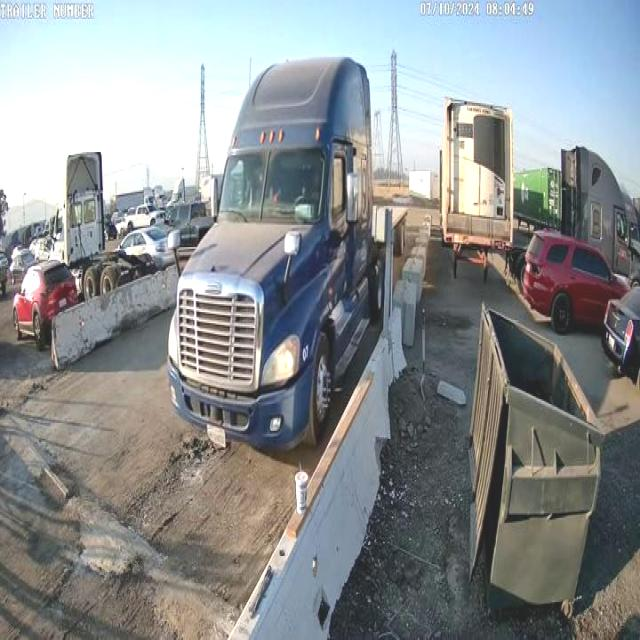BOBTAIL: (166, 55, 409, 454)
